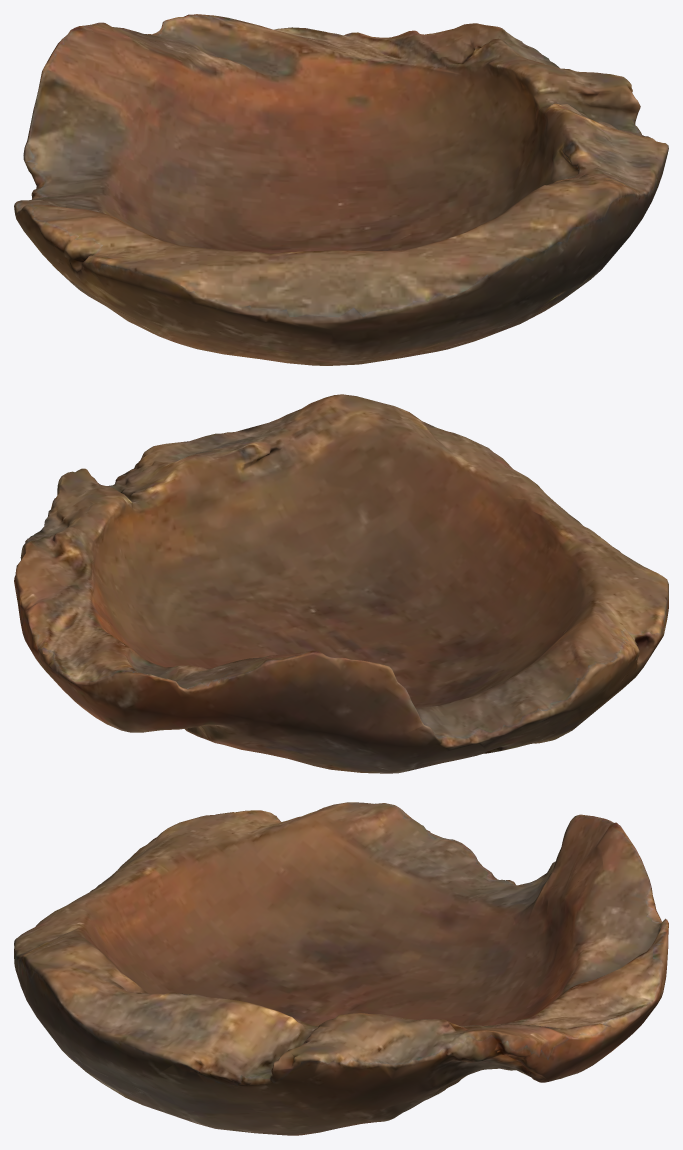
File: wooden_bowl_01.glb
The picture shows the model from 3 angles, top to bottom: view 1: azimuth 30°, elevation 25°; view 2: azimuth 150°, elevation 25°; view 3: azimuth 270°, elevation 25°; orthographic projection. The views are drawn at different scales.
Parts seen in each view (by area): view 1: wooden_bowl_01; view 2: wooden_bowl_01; view 3: wooden_bowl_01.
Part boxes in pixels (x1,y1,x2,y2): wooden_bowl_01: [14, 14, 668, 365]; wooden_bowl_01: [14, 394, 668, 773]; wooden_bowl_01: [14, 802, 668, 1135].
Bounding box in the file's own units: 0.3131 × 0.0937 × 0.3091.
1 material, 1 textured.
